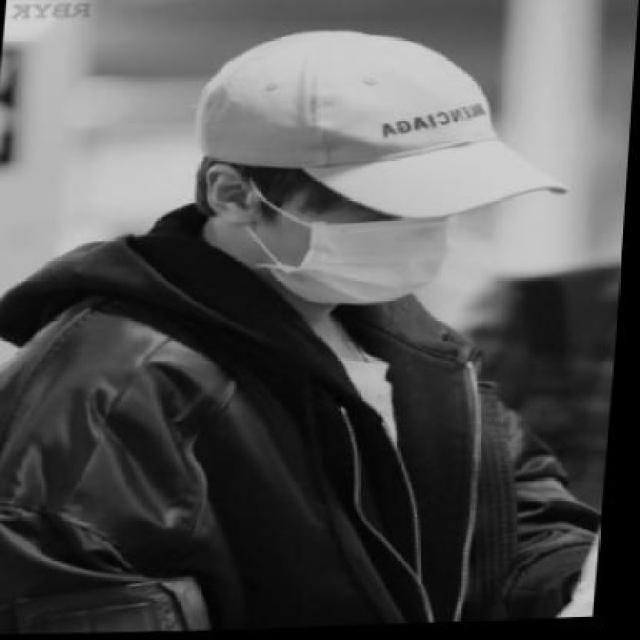hat: (180, 19, 582, 236)
